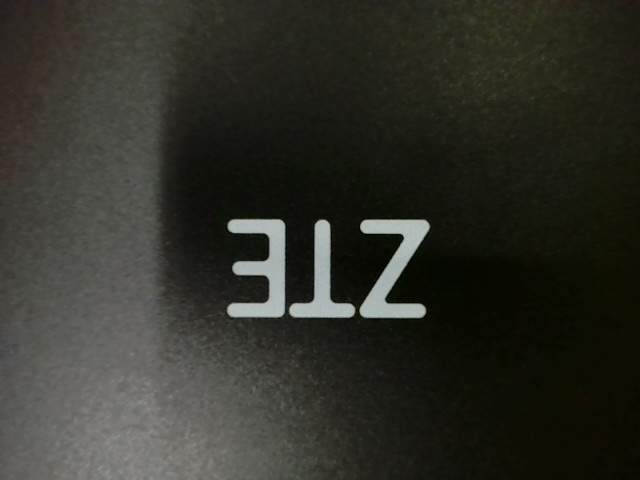AN_ZTE: (212, 196, 445, 331)
